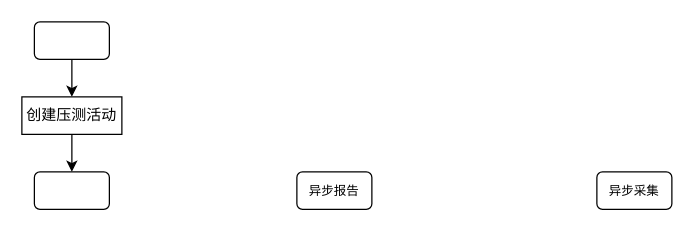
The diagram is 694 pixels wide and 231 high, and some of its shapes have lost their labels. Each missing label, with the centre of its shape:
"一键压测" goes at (x=71, y=40).
"返回压测id" goes at (x=71, y=190).
